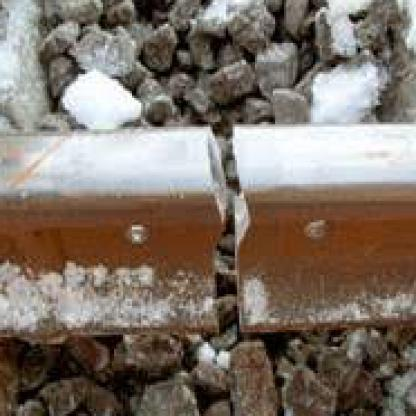Defective 2: (25, 96, 414, 356)
